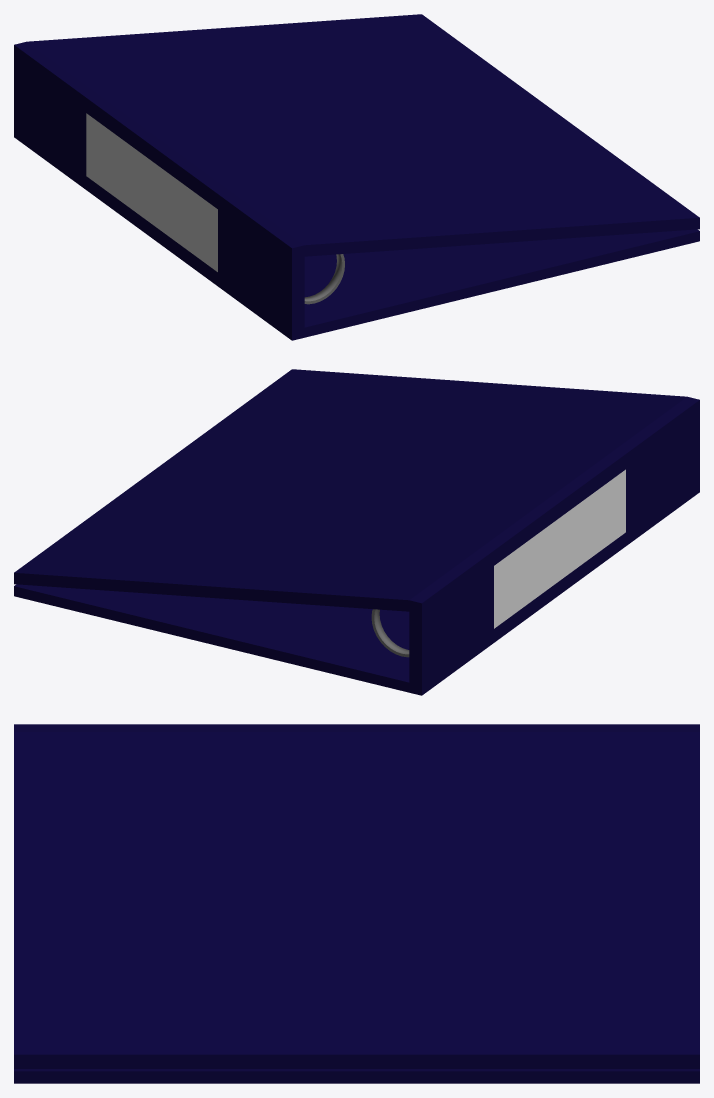
File: binder.fbx
3 renders of one model, top to bottom at view 1: azimuth 30°, elevation 25°; view 2: azimuth 150°, elevation 25°; view 3: azimuth 270°, elevation 25°, orthographic. The views are drawn at different scales.
Parts seen in each view (by area): view 1: Cylinder.002; view 2: Cylinder.002; view 3: Cylinder.002.
Part boxes in pixels (x1,y1,x2,y2): Cylinder.002: (14, 14, 699, 340); Cylinder.002: (14, 369, 699, 695); Cylinder.002: (14, 724, 699, 1083).
Bounding box in the file's own units: 494 × 107 × 583.
